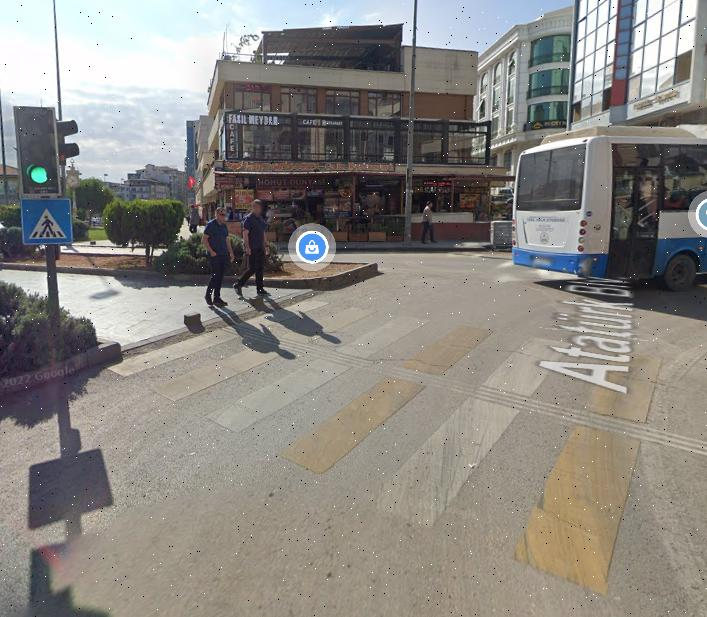greenlight: (13, 101, 61, 192)
